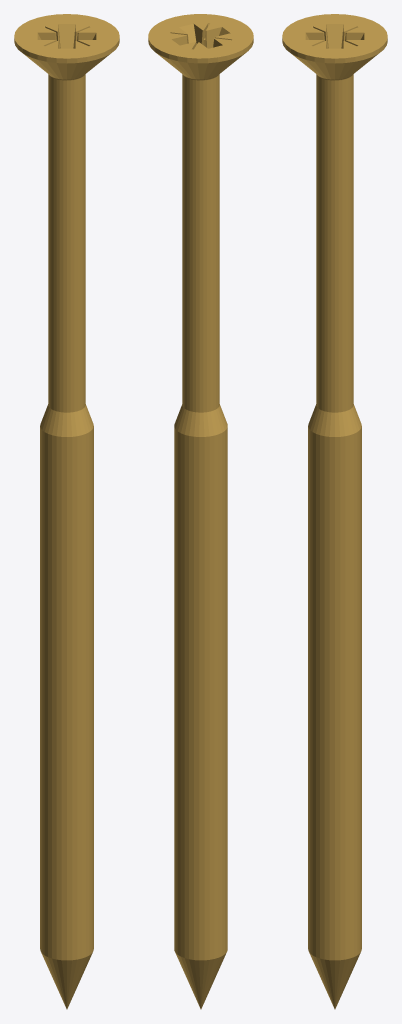
The model's file is model_display.glb.
3 renders of one model, left to right at view 1: azimuth 90°, elevation 25°; view 2: azimuth 210°, elevation 25°; view 3: azimuth 270°, elevation 25°, orthographic.
Visible parts, largest first — view 1: geometry_0; view 2: geometry_0; view 3: geometry_0.
Part boxes in pixels (box(x1,y1,x2,y2)): geometry_0: box(14, 14, 119, 1009); geometry_0: box(148, 14, 253, 1009); geometry_0: box(282, 14, 387, 1009).
Size of the model in its own units: 0.0118 by 0.12 by 0.0118.
